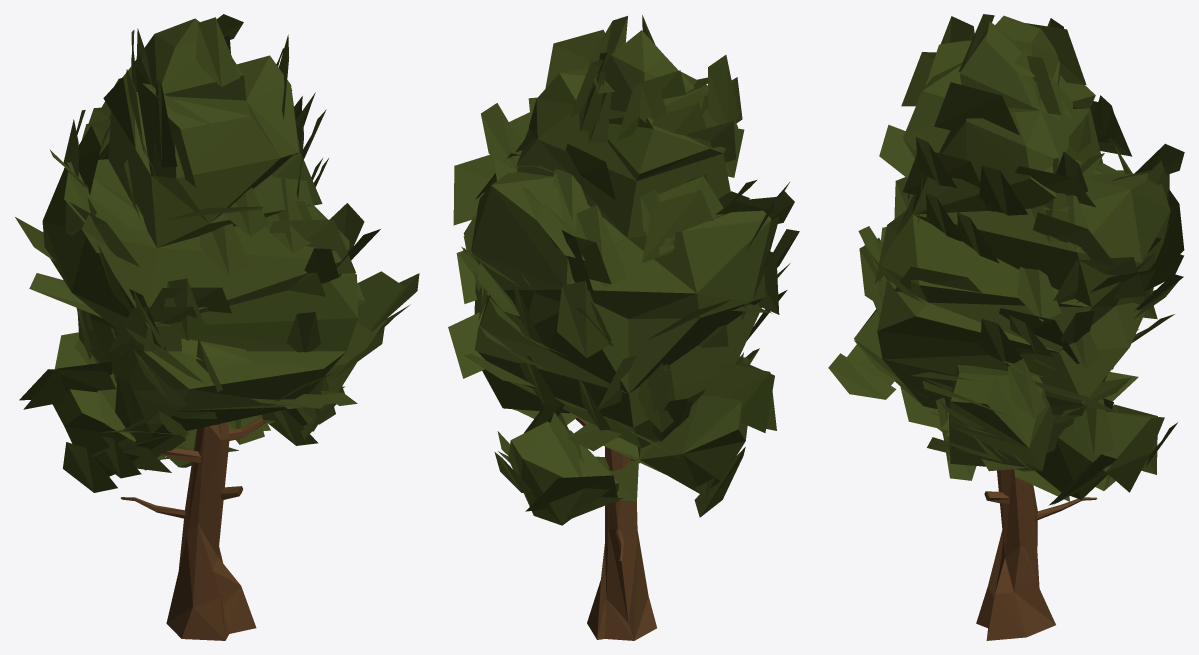
Rendered from tree-juniper-sapling-b.fbx.
The picture shows the model from 3 angles, left to right: view 1: azimuth 30°, elevation 25°; view 2: azimuth 150°, elevation 25°; view 3: azimuth 270°, elevation 25°; orthographic projection. The views are drawn at different scales.
Visible parts, largest first — view 1: tree-juniper-sapling-b; view 2: tree-juniper-sapling-b; view 3: tree-juniper-sapling-b.
Part boxes in pixels (bbox=[...]): tree-juniper-sapling-b: bbox=[15, 14, 419, 640]; tree-juniper-sapling-b: bbox=[448, 15, 799, 640]; tree-juniper-sapling-b: bbox=[828, 14, 1184, 640].
Size of the model in its own units: 1.14 by 1.86 by 0.9897.
